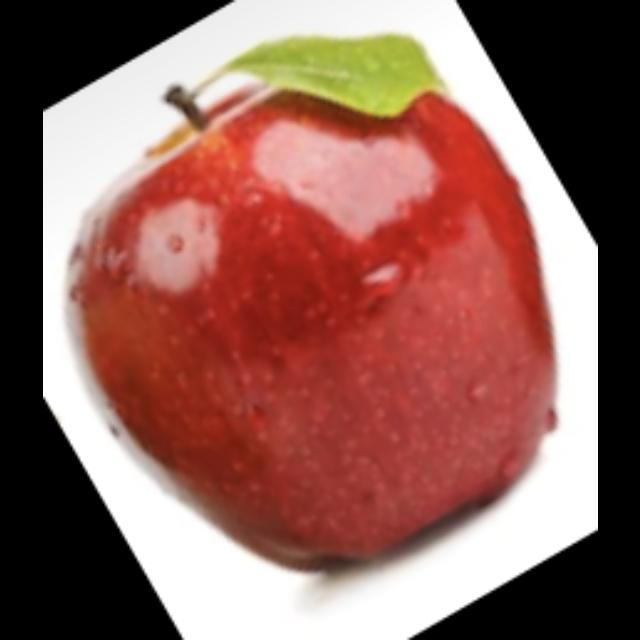Apel Segar: (59, 27, 558, 578)
